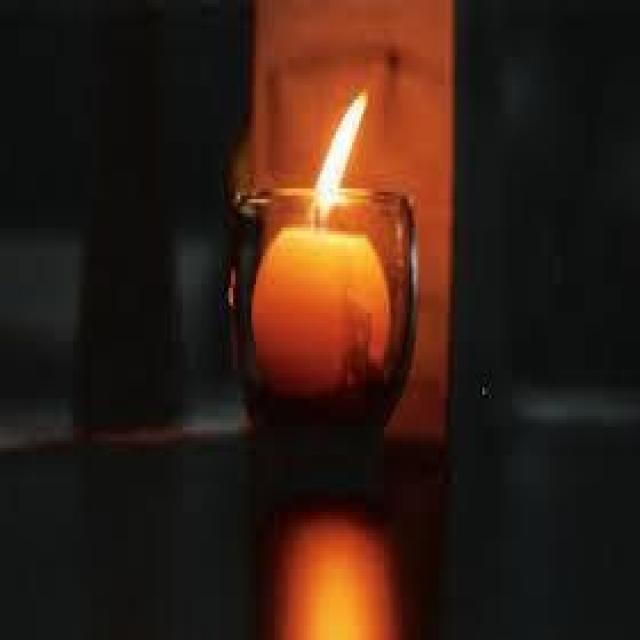fire: (295, 78, 376, 240)
